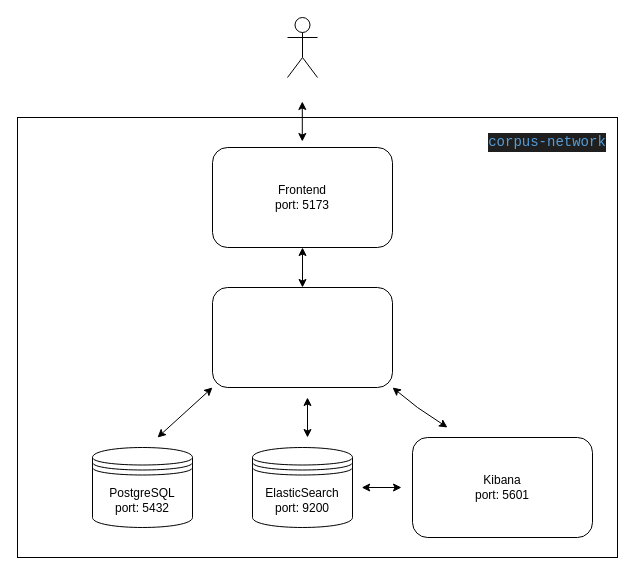
Image size: 635x575. Some labels were removed from this diagram. Each missing label, with the centre of its shape:
"Backend (Fast API) port: 8000" goes at (302,337).
"Пользователь" goes at (302,47).
